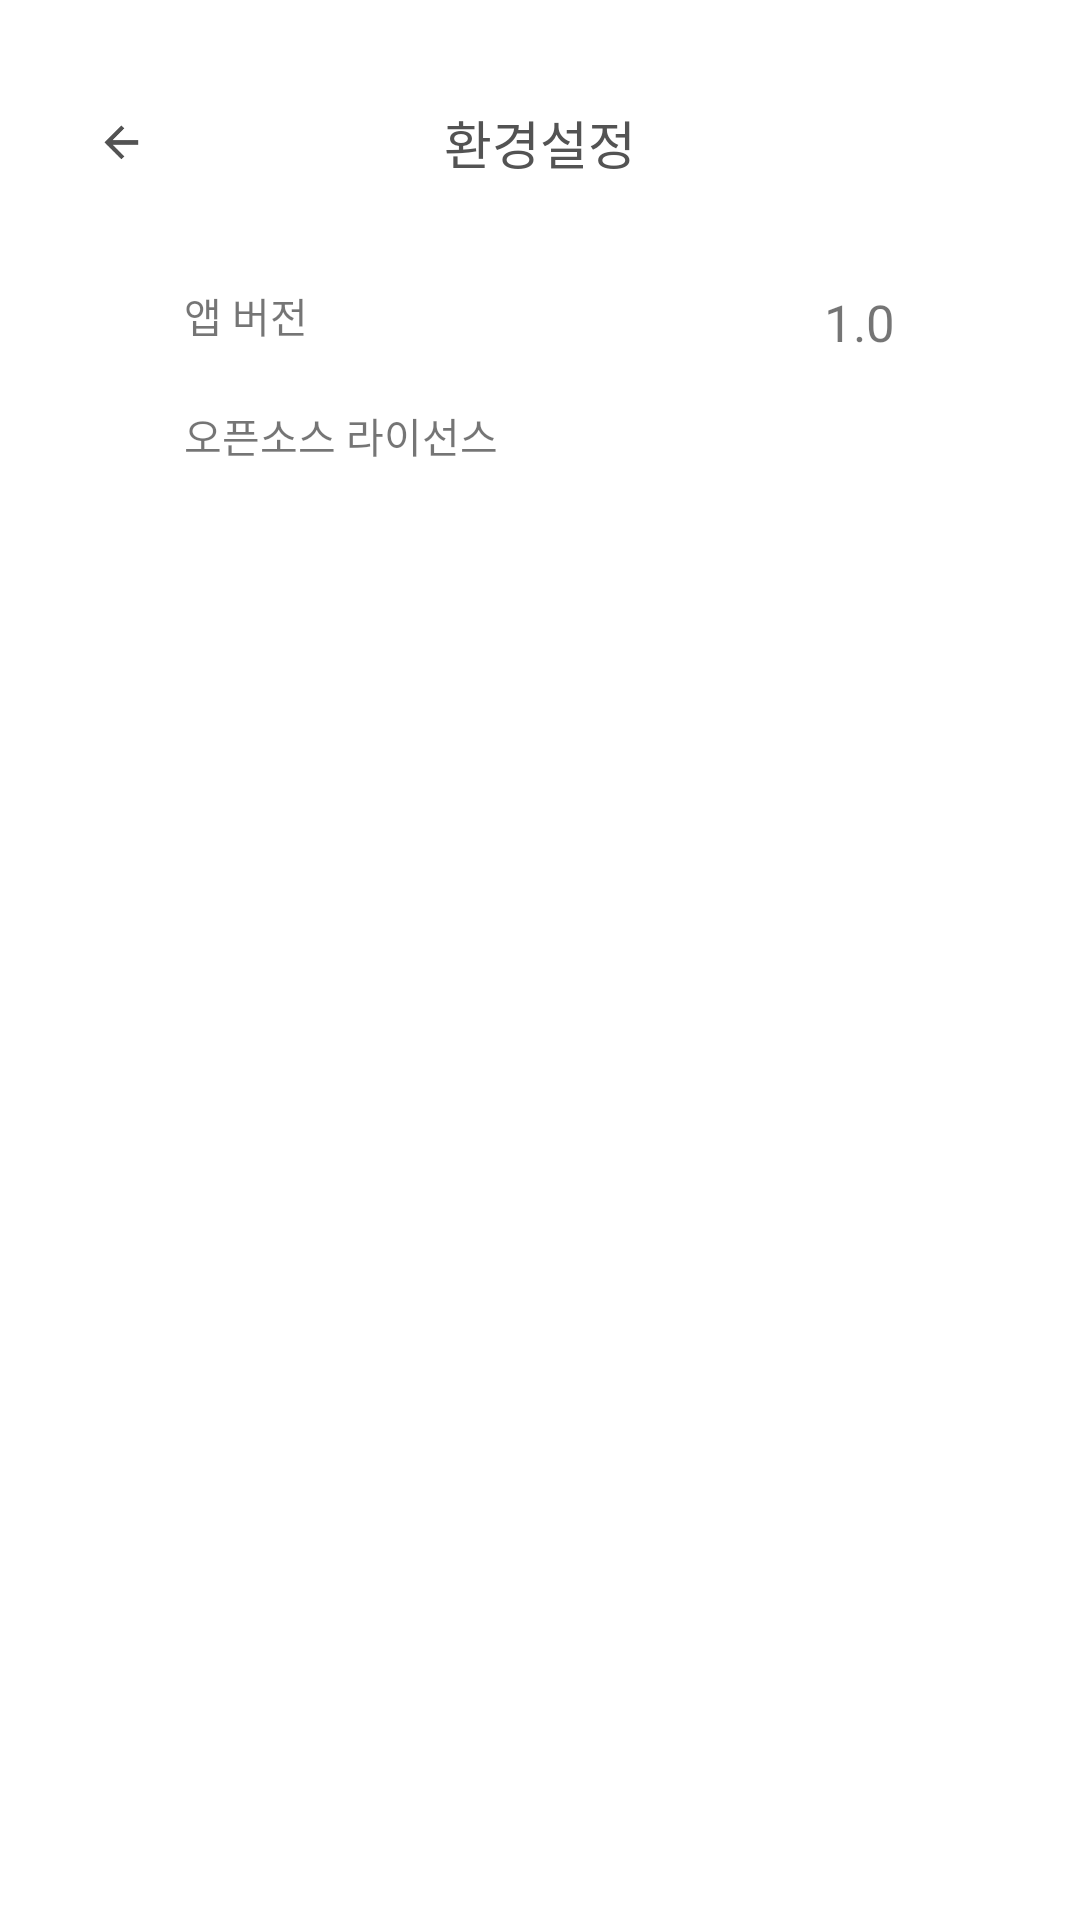

Icon bounding boxes for this 1080×1920 phone screenshot, format bbox=(x1, y1, x2, y2):
back arrow: bbox=(104, 125, 139, 159)
